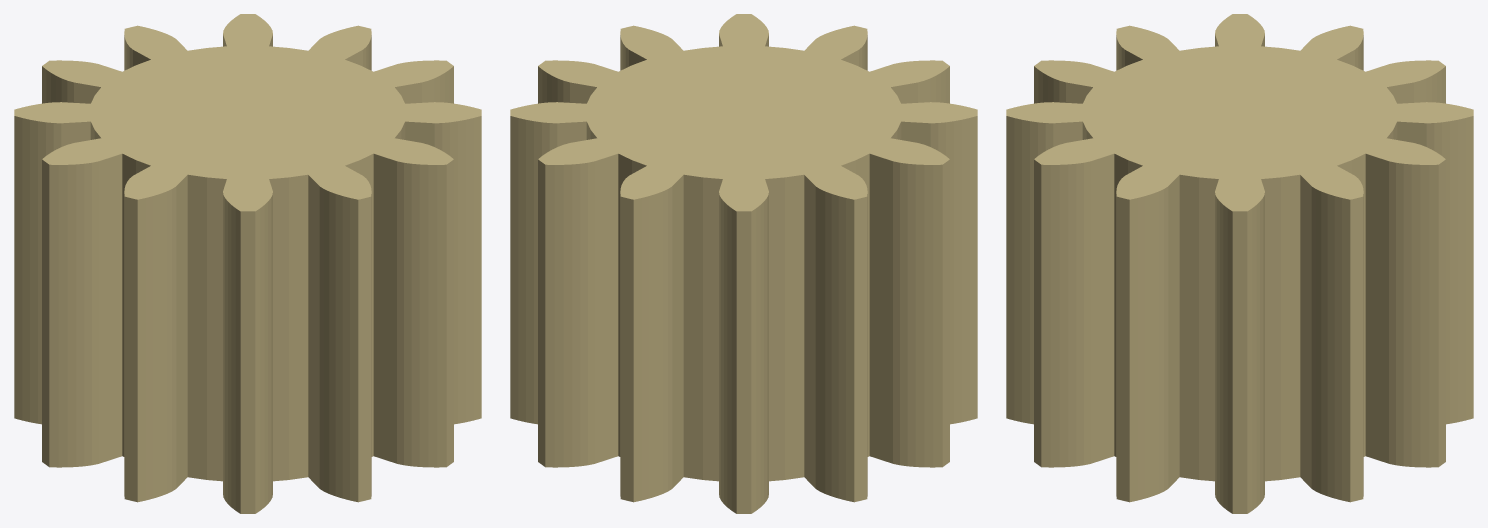
Rendered from step_04.glb.
3 renders of one model, left to right at view 1: azimuth 30°, elevation 25°; view 2: azimuth 150°, elevation 25°; view 3: azimuth 270°, elevation 25°, orthographic.
Visible parts, largest first — view 1: part__sun gear; view 2: part__sun gear; view 3: part__sun gear.
Boxes of the visible parts, bbox=[...] form: part__sun gear: bbox=[14, 14, 481, 513]; part__sun gear: bbox=[510, 14, 977, 513]; part__sun gear: bbox=[1006, 14, 1473, 513].
Size of the model in its own units: 13.99 by 10 by 13.99.
